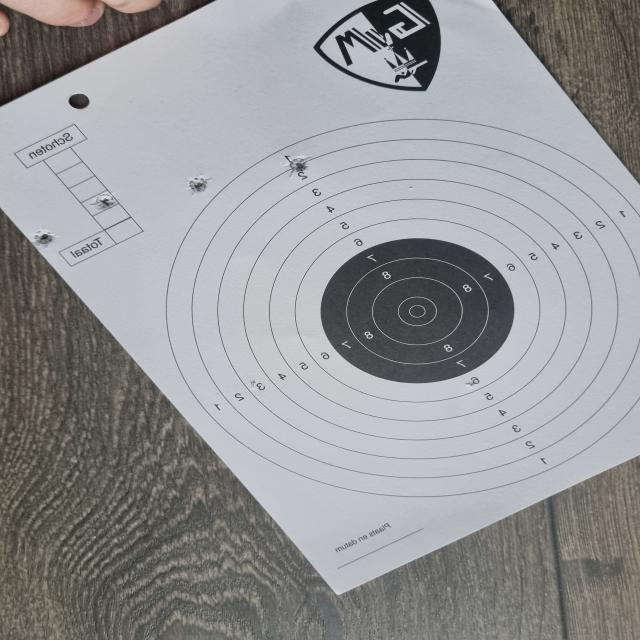0: (93, 192, 117, 212), (34, 228, 56, 248), (186, 175, 206, 195)
2: (288, 157, 310, 176)
Target: (166, 118, 640, 497)
black_contour: (321, 237, 512, 383)
